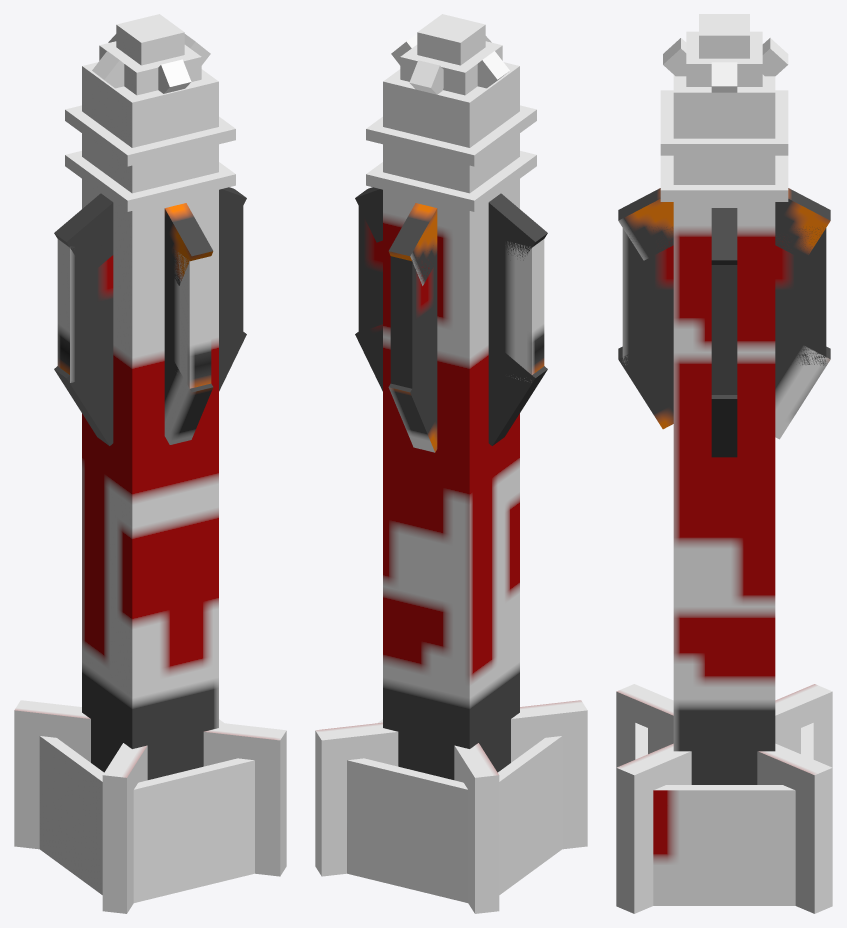
Rendered from missile_sam.obj.
The picture shows the model from 3 angles, left to right: view 1: azimuth 30°, elevation 25°; view 2: azimuth 150°, elevation 25°; view 3: azimuth 270°, elevation 25°; orthographic projection.
Parts seen in each view (by area): view 1: body_Shape1, Shape2, Shape3d, Shape5a, Shape2c, Shape7a, Shape5, Shape3, Shape6a, Shape6, Shape4g, Shape4 (+7 smaller); view 2: body_Shape1, Shape2a, Shape3, Shape5a, Shape2c, Shape7a, Shape5, Shape3d, Shape6a, Shape6, Shape4a, Shape8d (+8 smaller); view 3: body_Shape1, Shape2b, Shape5, Shape3, Shape3d, Shape7a, Shape6a, Shape5a, Shape4d, Shape4, Shape6, Shape4e (+8 smaller).
Boxes of the visible parts, x1,y1,x2,y2 form: body_Shape1: (82, 133, 218, 779); Shape2: (133, 758, 254, 902); Shape3d: (14, 700, 286, 876); Shape5a: (57, 205, 243, 382); Shape2c: (39, 736, 103, 894); Shape7a: (82, 62, 218, 147); Shape5: (164, 244, 211, 388); Shape3: (102, 743, 147, 913); Shape6a: (65, 105, 235, 166); Shape6: (65, 151, 235, 211); Shape4g: (54, 193, 113, 275); Shape4: (164, 345, 213, 444); body_Shape1: (383, 133, 519, 779); Shape2a: (347, 758, 468, 902); Shape3: (315, 700, 587, 876); Shape5a: (358, 206, 544, 382); Shape2c: (498, 736, 562, 894); Shape7a: (383, 62, 519, 147); Shape5: (390, 251, 437, 396); Shape3d: (454, 743, 499, 913); Shape6a: (366, 105, 536, 166); Shape6: (366, 151, 536, 211); Shape4a: (488, 339, 547, 445); Shape8d: (417, 14, 485, 65); body_Shape1: (673, 155, 775, 784); Shape2b: (653, 785, 795, 905); Shape5: (622, 226, 826, 365); Shape3: (616, 684, 832, 913); Shape3d: (616, 684, 832, 913); Shape7a: (673, 74, 775, 138); Shape6a: (660, 90, 788, 155); Shape5a: (711, 265, 737, 394); Shape4d: (775, 330, 830, 439); Shape4: (618, 330, 673, 429); Shape6: (660, 155, 788, 201); Shape4e: (618, 188, 673, 260).
Size of the model in its own units: 1.06 by 4.56 by 1.06.
